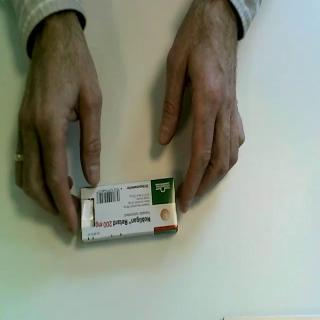nobligan_retard200mg: (79, 177, 181, 246)
